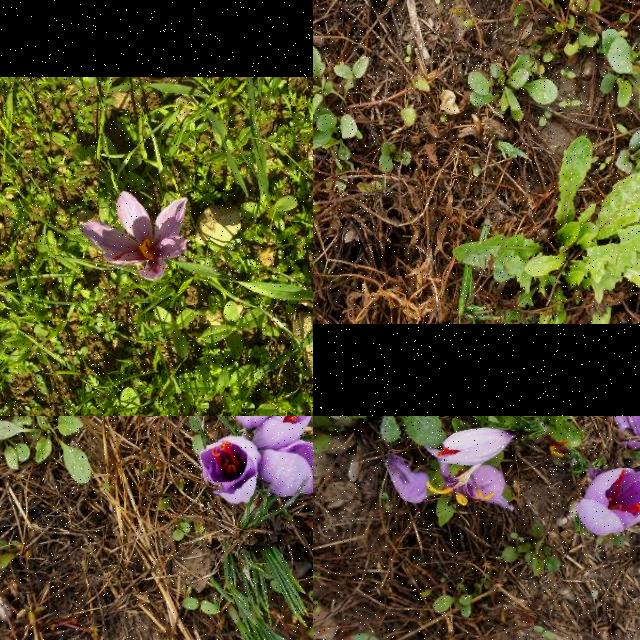flower: (79, 191, 189, 281), (577, 468, 640, 538), (199, 436, 263, 504), (259, 431, 313, 505), (436, 428, 520, 467), (252, 416, 313, 449)
